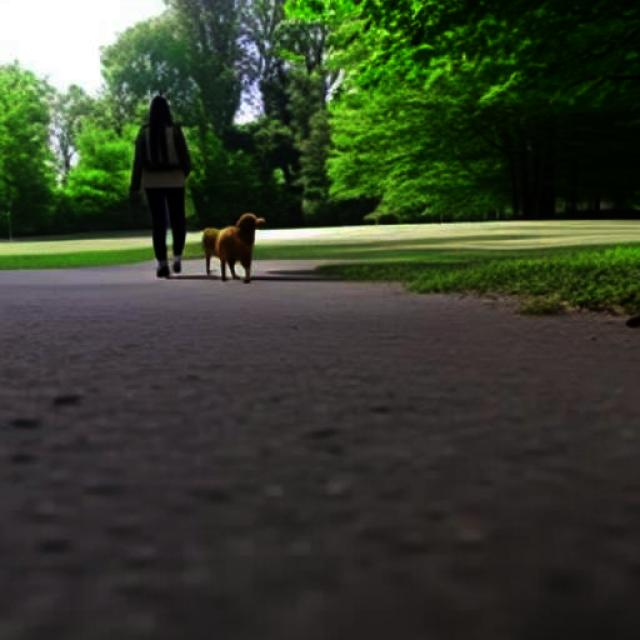Unleashed_Dog: (166, 186, 266, 284)
